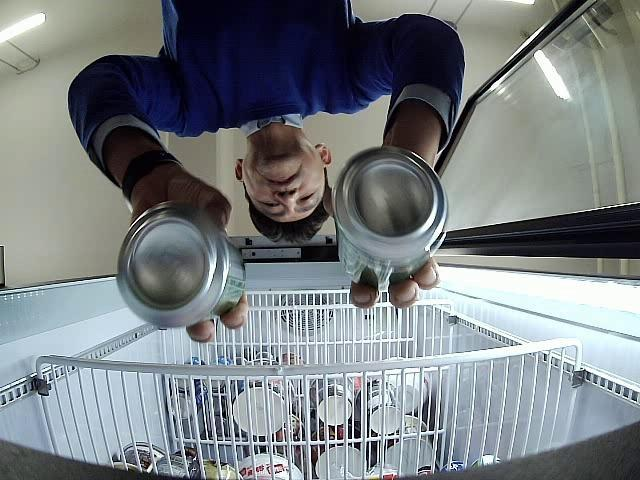12_chilsungCider: (332, 146, 448, 290), (117, 200, 246, 327)
